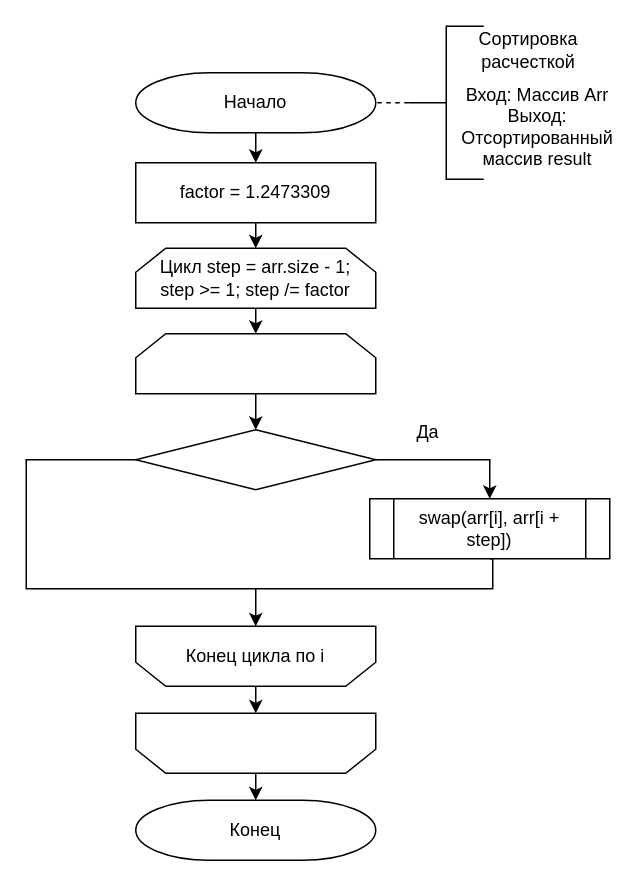
Image size: 639x887. Some labels were removed from this diagram. The centre of each missing label's shape, as x and y in pixels:
arr[i] > arr[i + step]: the point at 255,459
Конец цикла по step: the point at 255,742
Цикл i = 0; i < arr.size; i++: the point at 255,363
